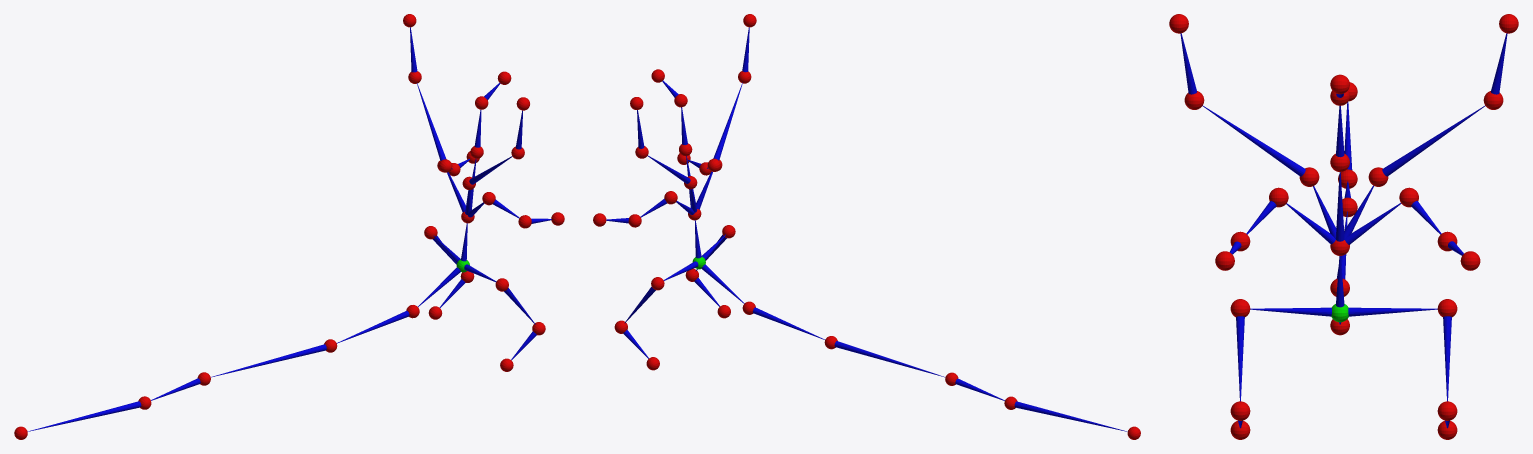
Rendered from charizard_skel.obj.
The picture shows the model from 3 angles, left to right: view 1: azimuth 30°, elevation 25°; view 2: azimuth 150°, elevation 25°; view 3: azimuth 270°, elevation 25°; orthographic projection. The views are drawn at different scales.
Size of the model in its own units: 0.8637 by 0.4731 by 0.3559.
